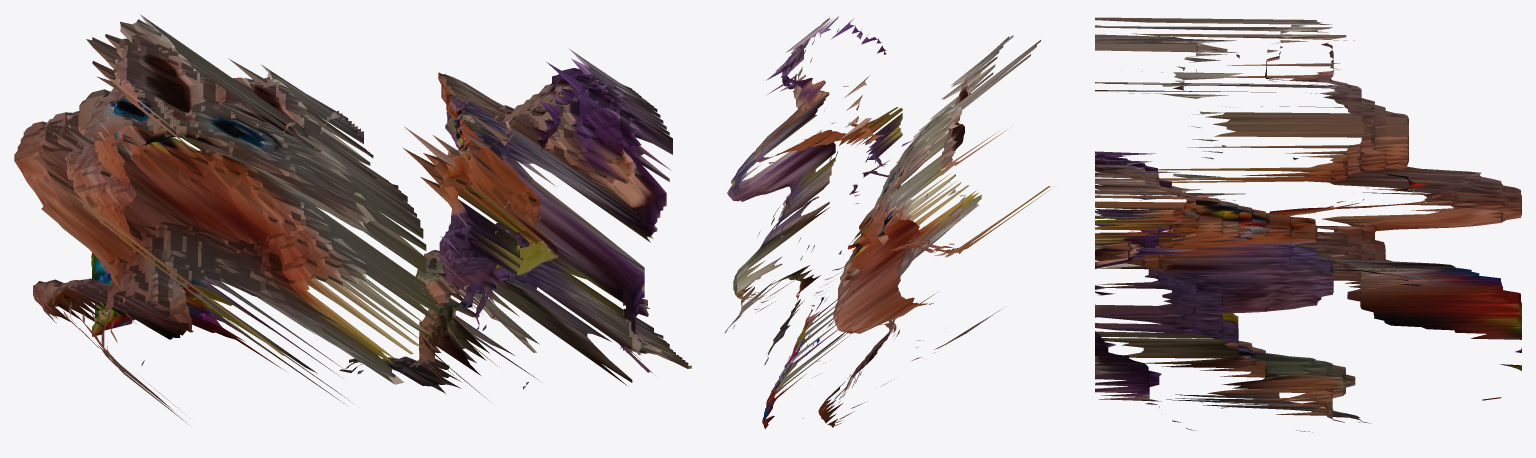
Rendered from frame_00361.glb.
3 renders of one model, left to right at view 1: azimuth 30°, elevation 25°; view 2: azimuth 150°, elevation 25°; view 3: azimuth 270°, elevation 25°, orthographic. The views are drawn at different scales.
Parts seen in each view (by area): view 1: geometry_0; view 2: geometry_0; view 3: geometry_0.
Boxes of the visible parts, bbox=[...] form: geometry_0: bbox=[14, 14, 691, 424]; geometry_0: bbox=[725, 16, 1053, 428]; geometry_0: bbox=[1095, 17, 1521, 432].
Size of the model in its own units: 0.1407 by 0.1365 by 0.16.
Materials: 1 (1 with a texture image).
